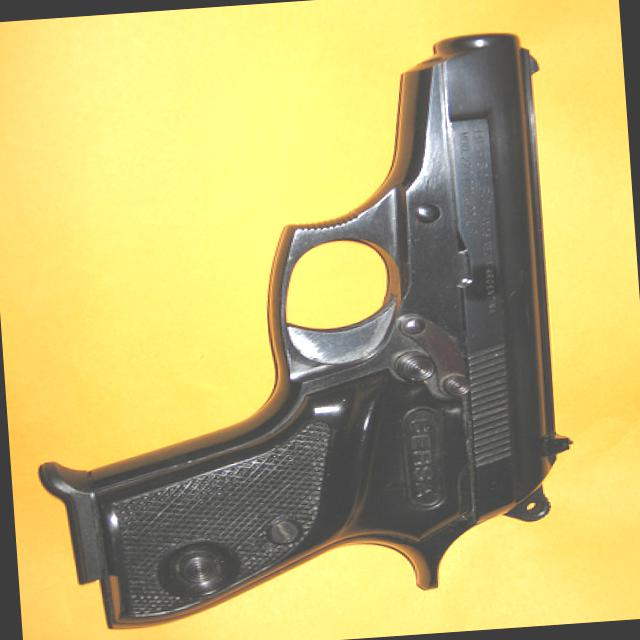handgun: (8, 26, 584, 630)
